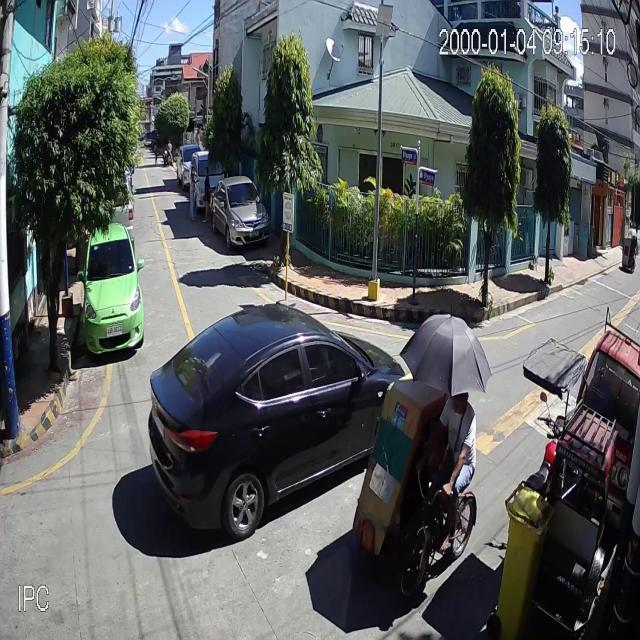standing: (188, 166, 200, 221), (202, 166, 211, 224)
walking: (152, 142, 158, 164)
